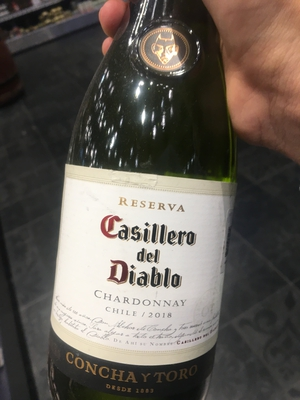casillero del diablo chardonnay: (39, 14, 238, 400)
